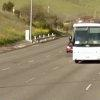Bus: (65, 16, 98, 69)
